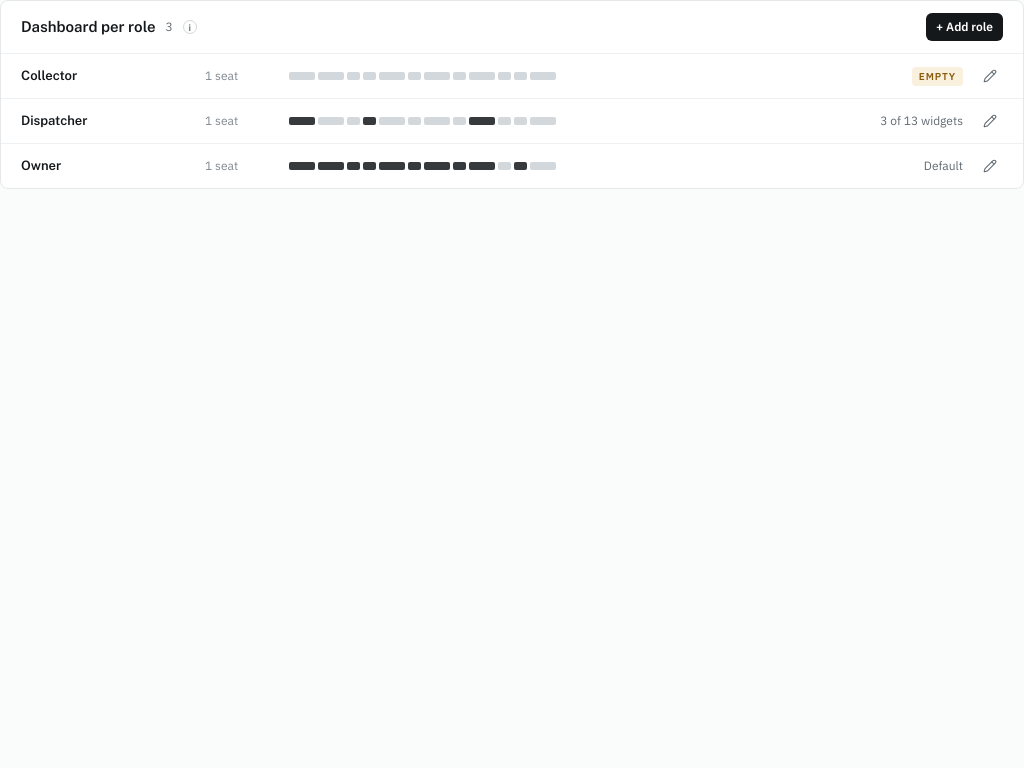
Dashboard per role › draws the resulting dashboard and says which tabs vanish
The image size is (1024, 768).
What coordinates should you click on to do the following:
click the button named "Configure Dispatcher"
I would click on:
 (990, 121)
Its box is [977,108,1003,134].
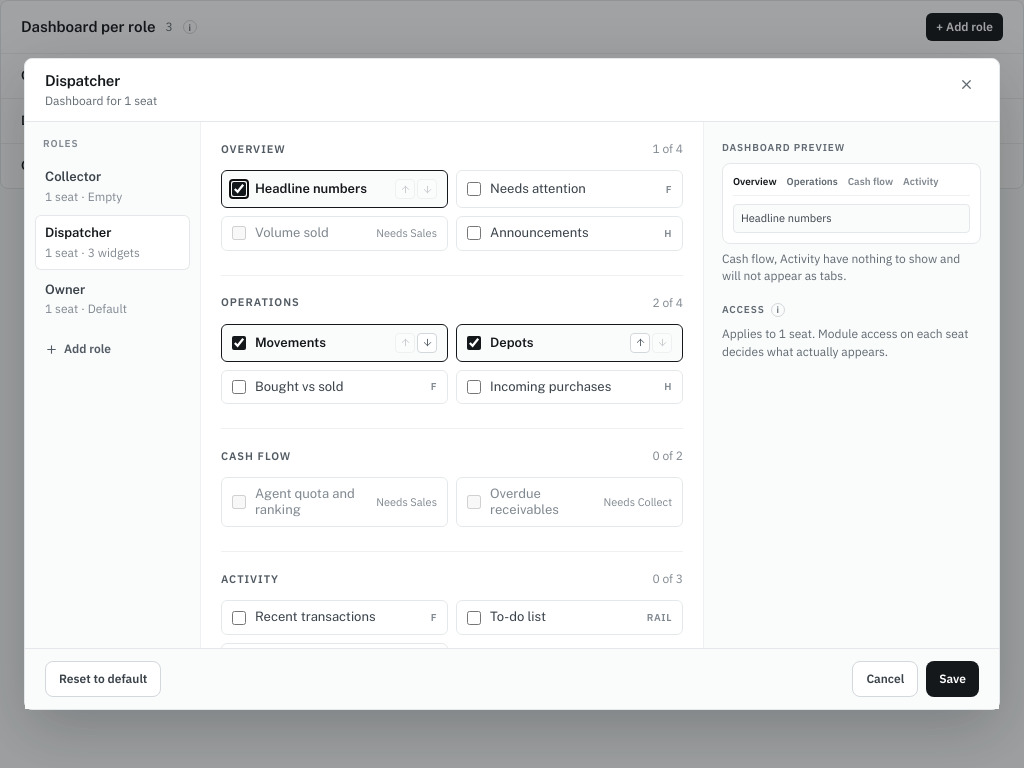
Expected: the text "Cash flow, Activity have nothing to show" is shown, [722,250,981,284]
What coordinates should you click on to do the following:
click the checkbox labelled "Movements"
I would click on:
 (239, 343)
Its box is [232,336,246,350].
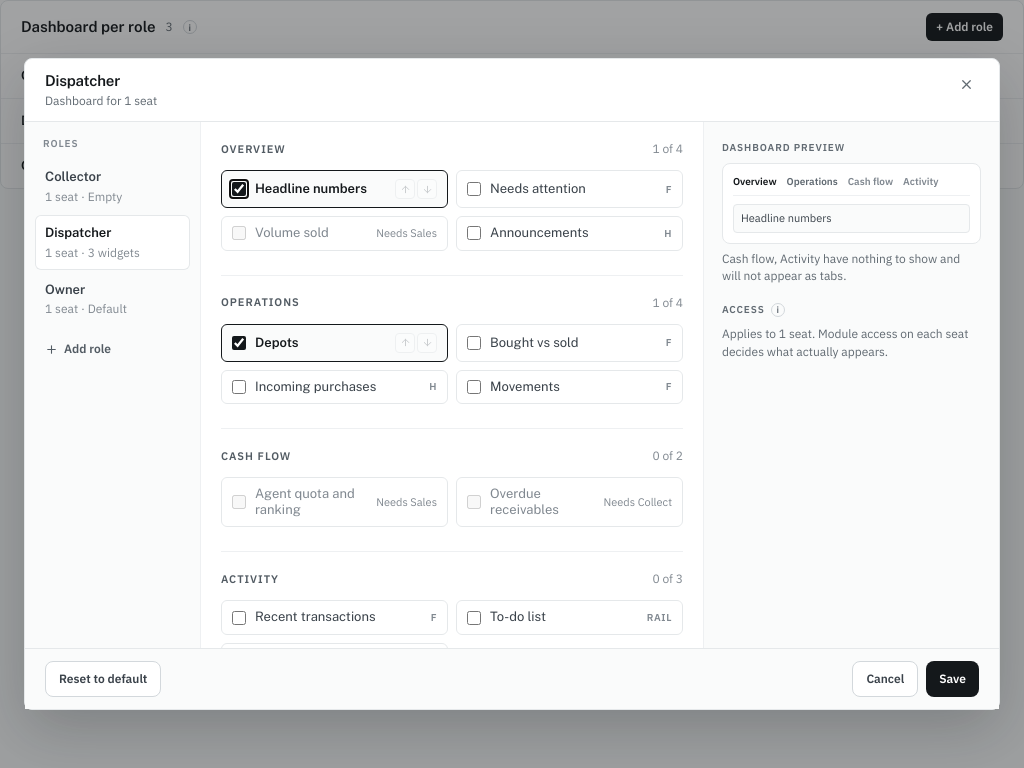
What coordinates should you click on to do the following:
click the checkbox labelled "Depots"
I would click on:
 (239, 343)
Its box is [232,336,246,350].
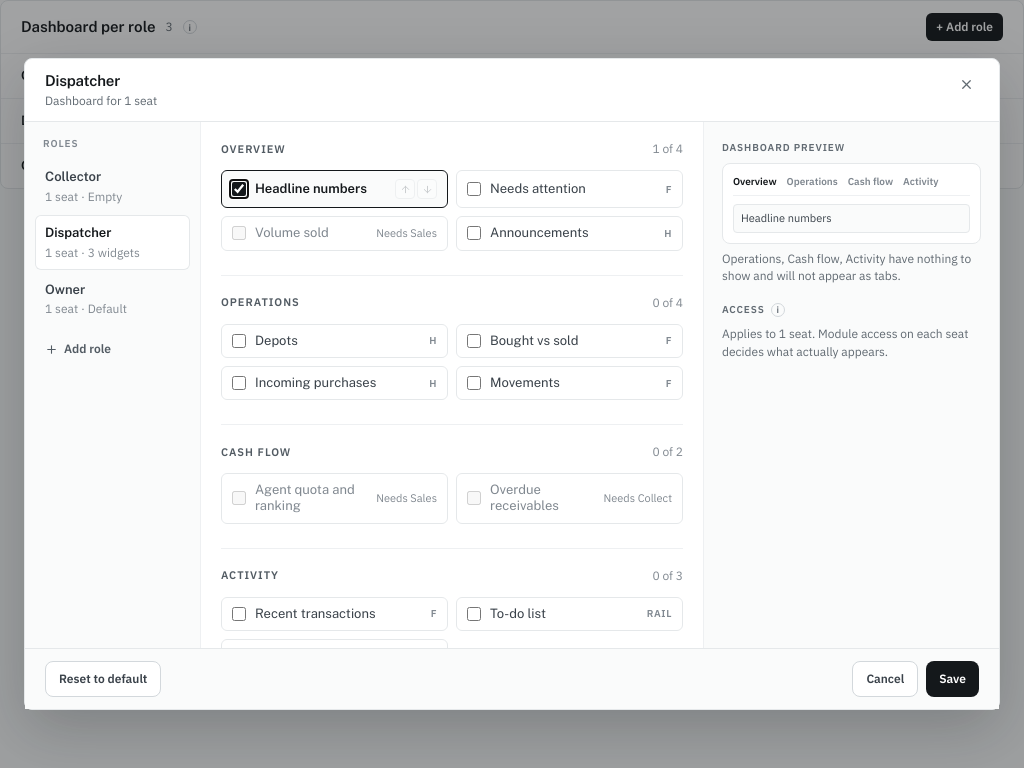
Expected: the text "Operations, Cash flow, Activity have nothing to show" is shown, [722,250,981,284]
